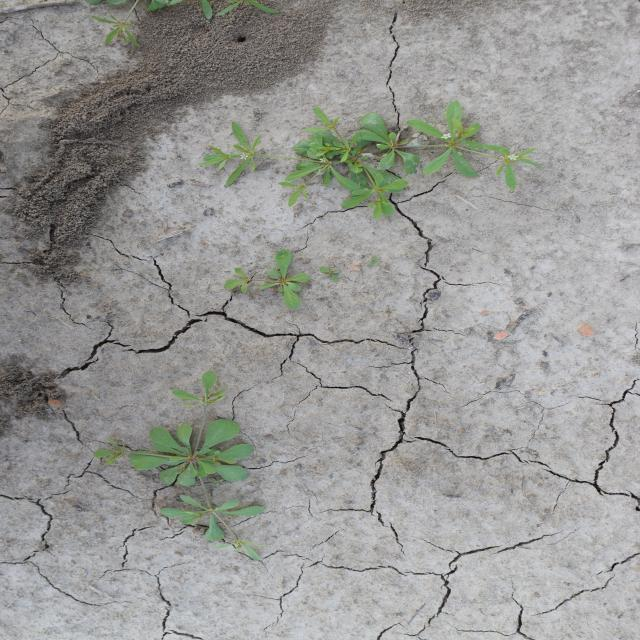Carpetweed: (195, 97, 545, 223), (91, 369, 269, 563), (223, 248, 314, 313), (81, 1, 192, 51)
